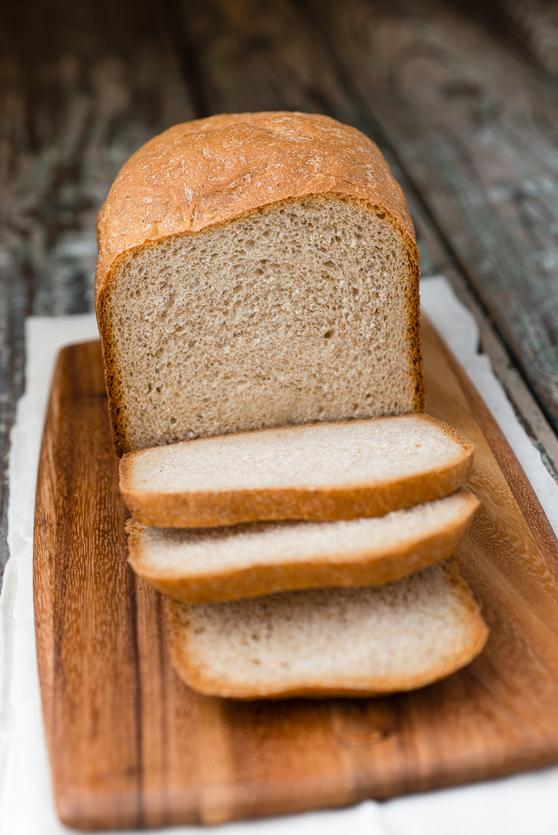white_bread: (70, 109, 439, 438)
